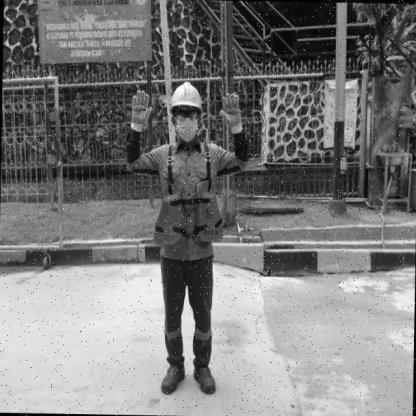bota: (191, 357, 219, 397), (159, 359, 187, 397)
oculos: (165, 104, 208, 126)
